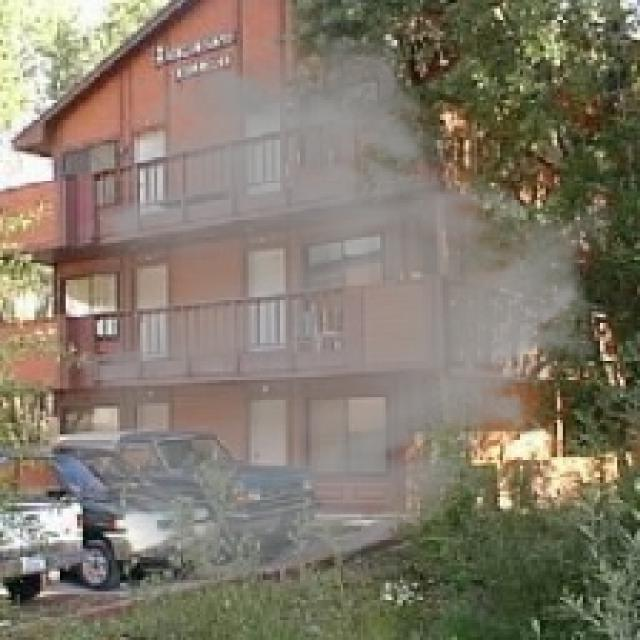smoke: (51, 26, 620, 586)
